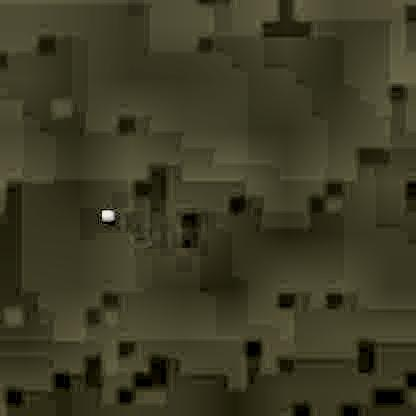golfball: (99, 207, 113, 222)
